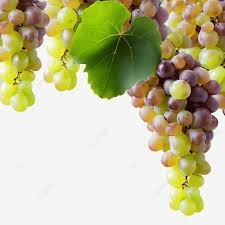Grape Unripe: (128, 0, 224, 215), (0, 0, 78, 90)
